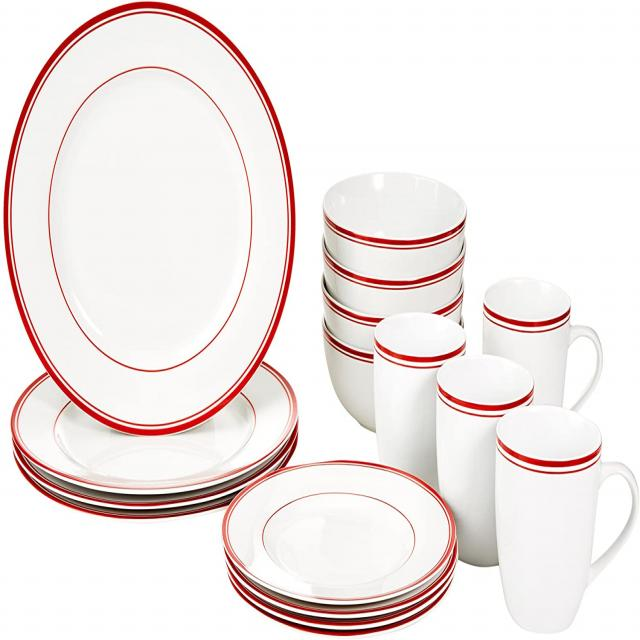non-organic waste: (0, 5, 300, 445), (210, 406, 514, 633), (6, 359, 310, 545)
